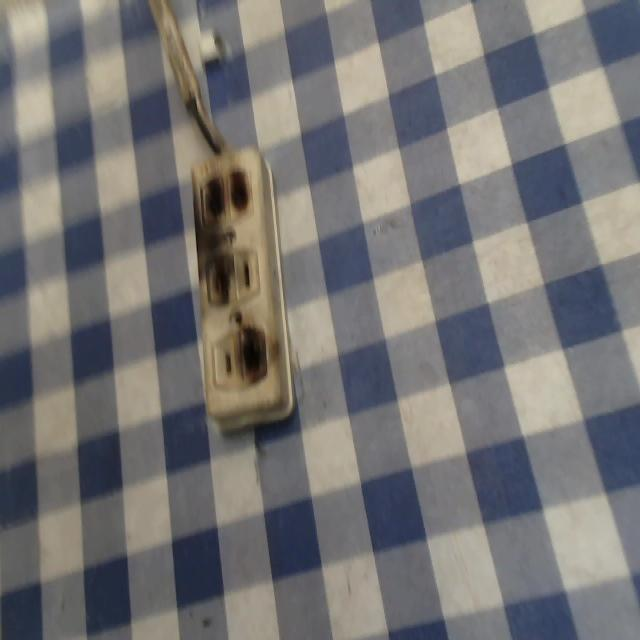-: (193, 164, 264, 228), (230, 322, 268, 398), (199, 252, 241, 309)
